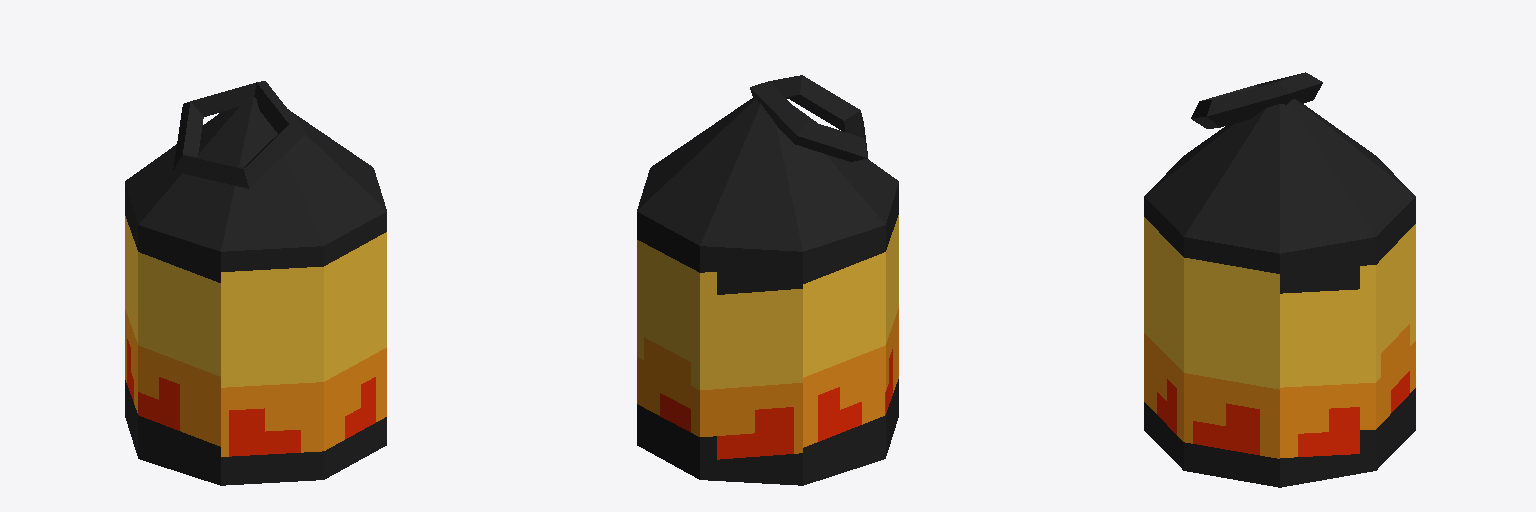
3 renders of one model, left to right at view 1: azimuth 30°, elevation 25°; view 2: azimuth 150°, elevation 25°; view 3: azimuth 270°, elevation 25°, orthographic.
Parts seen in each view (by area): view 1: Cylinder_Cylinder.001; view 2: Cylinder_Cylinder.001; view 3: Cylinder_Cylinder.001.
Boxes of the visible parts, x1=… form: Cylinder_Cylinder.001: x1=125, y1=81, x2=386, y2=485; Cylinder_Cylinder.001: x1=637, y1=75, x2=898, y2=485; Cylinder_Cylinder.001: x1=1144, y1=72, x2=1415, y2=487.
Size of the model in its own units: 0.2539 by 0.3594 by 0.2539.
Materials: 1 (1 with a texture image).